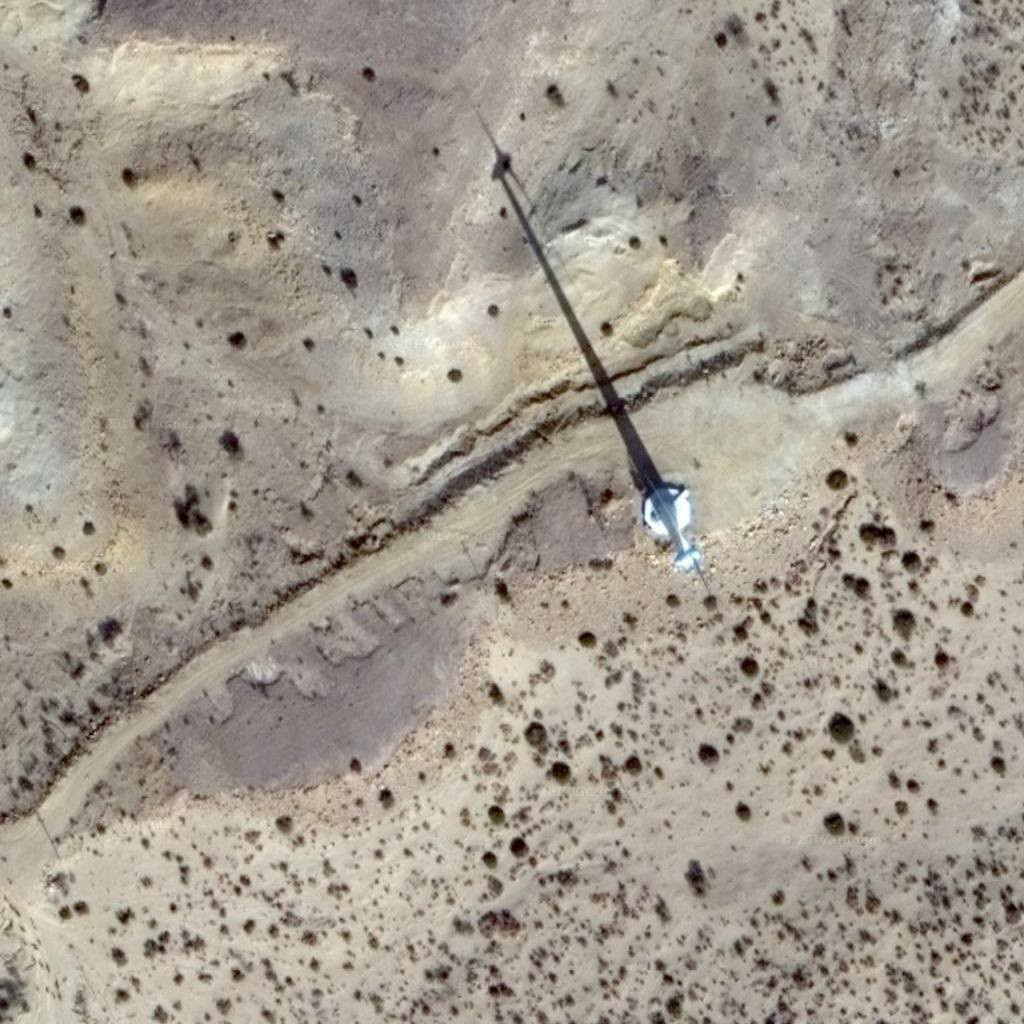Windmill: (447, 95, 683, 489)
